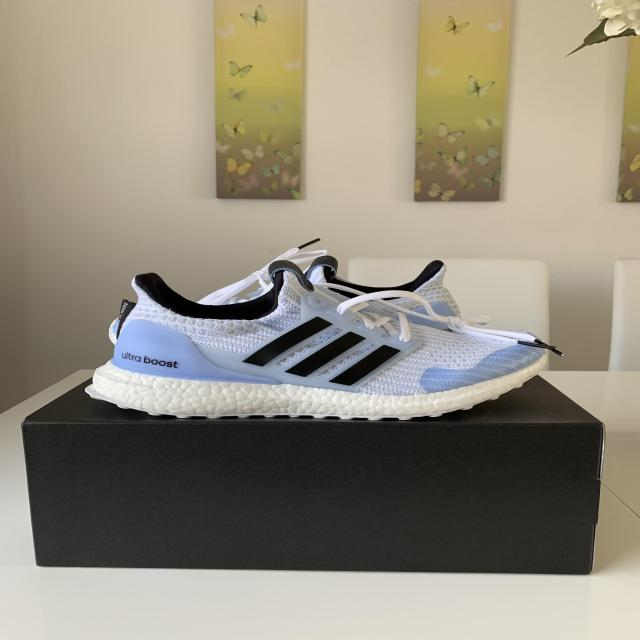shoes: (78, 241, 556, 421)
